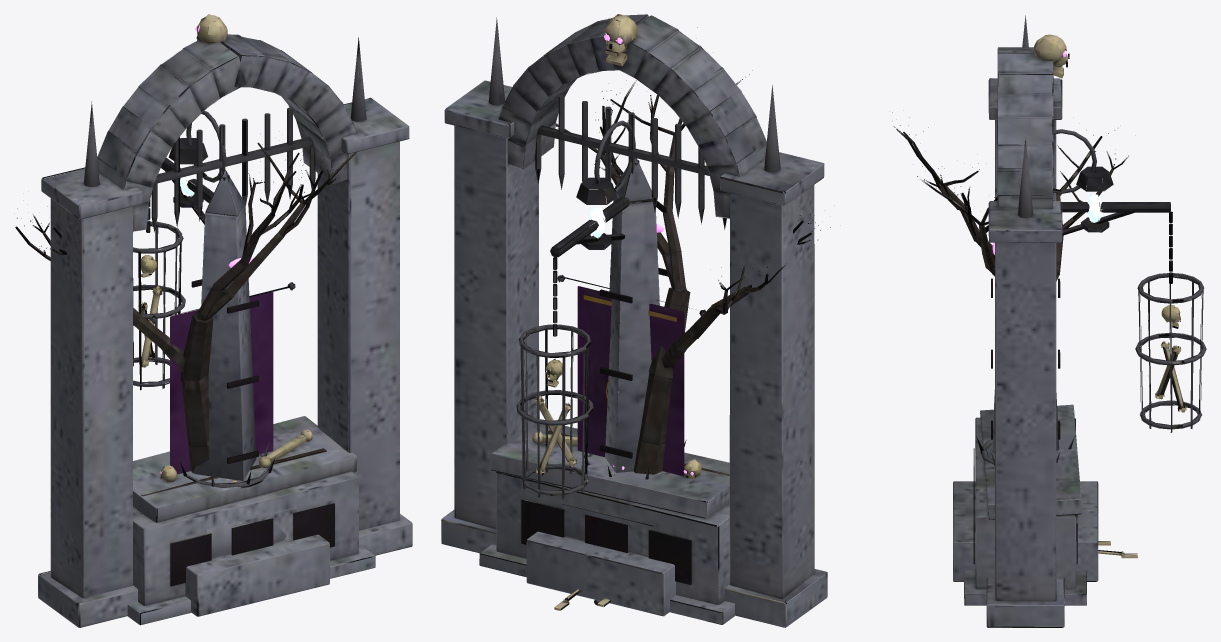
File: dark_props.glb
3 renders of one model, left to right at view 1: azimuth 30°, elevation 25°; view 2: azimuth 150°, elevation 25°; view 3: azimuth 270°, elevation 25°, orthographic. The views are drawn at different scales.
Parts seen in each view (by area): view 1: GothicArch, Sarcophagus, Obelisk, DeadTree, Banner, Gibbet, GothicLamp, Brazier; view 2: GothicArch, Sarcophagus, Obelisk, DeadTree, Gibbet, Banner, GothicLamp; view 3: GothicArch, Sarcophagus, Gibbet, Obelisk, DeadTree, GothicLamp.
Part boxes in pixels (left/top/right/bottom): GothicArch: left=38, top=14, right=412, bottom=627; Sarcophagus: left=127, top=416, right=375, bottom=625; Obelisk: left=185, top=170, right=329, bottom=616; DeadTree: left=15, top=140, right=356, bottom=473; Banner: left=150, top=282, right=295, bottom=474; Gibbet: left=133, top=157, right=230, bottom=390; GothicLamp: left=168, top=110, right=229, bottom=207; Brazier: left=180, top=440, right=275, bottom=488; GothicArch: left=441, top=14, right=827, bottom=627; Sarcophagus: left=479, top=424, right=735, bottom=624; Obelisk: left=526, top=158, right=675, bottom=616; DeadTree: left=555, top=27, right=830, bottom=605; Gibbet: left=516, top=196, right=630, bottom=498; Banner: left=557, top=275, right=705, bottom=476; GothicLamp: left=576, top=120, right=639, bottom=249; GothicArch: left=986, top=15, right=1069, bottom=627; Sarcophagus: left=964, top=404, right=1086, bottom=605; Gibbet: left=1060, top=202, right=1206, bottom=432; Obelisk: left=953, top=242, right=1098, bottom=581; DeadTree: left=892, top=112, right=1128, bottom=281; GothicLamp: left=1053, top=129, right=1113, bottom=232.
Bounding box in the file's own units: 3.58 × 5.23 × 3.02.
Materials: 5 (1 with a texture image).
